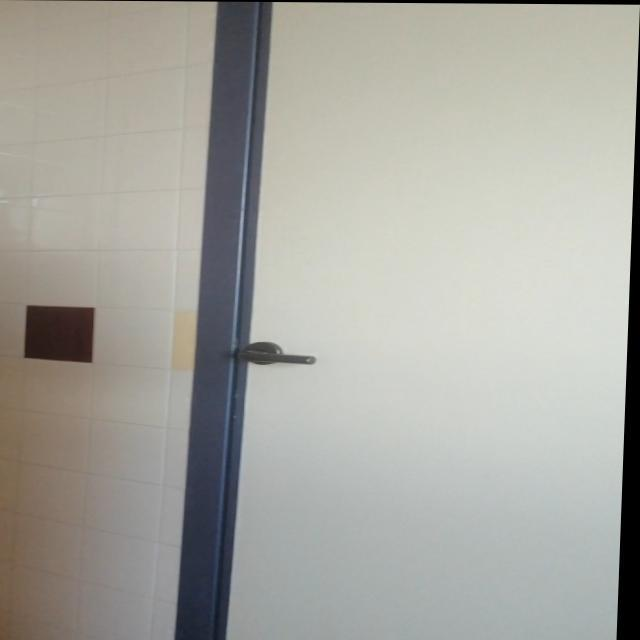door_handle: (233, 348, 322, 365)
